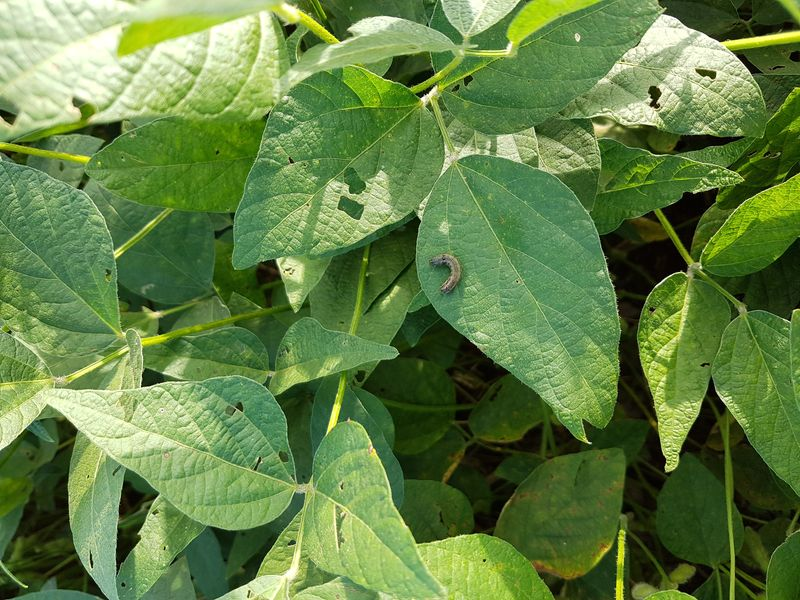Spodoptera_albula: (420, 244, 471, 305)
